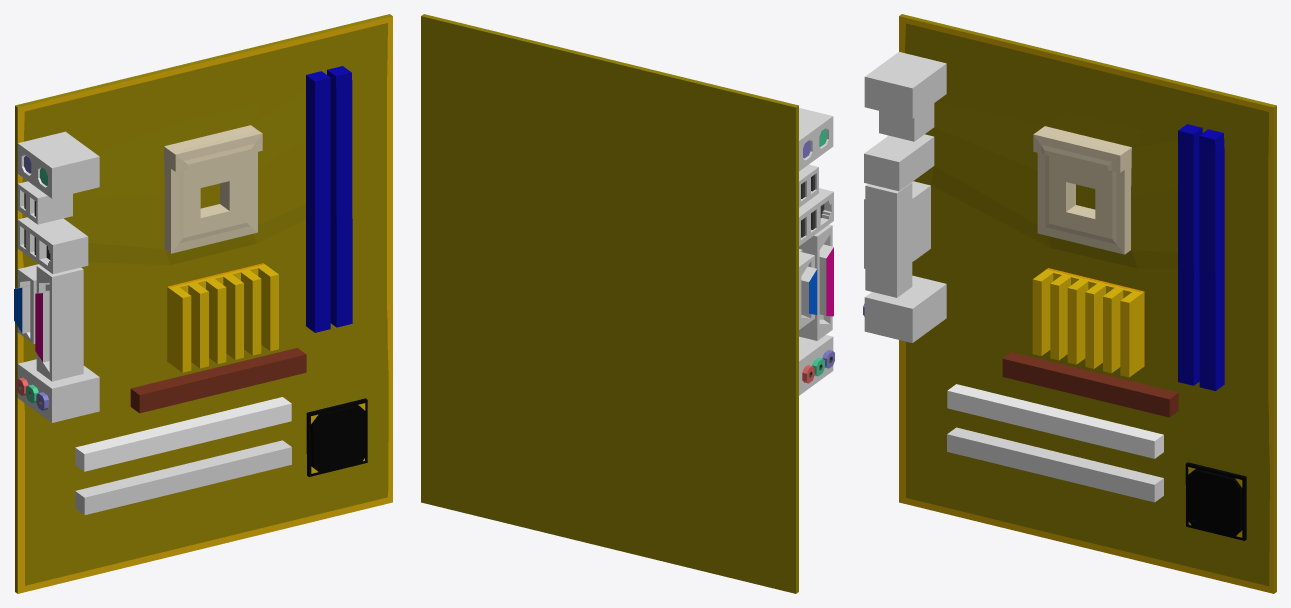
File: mobo_s478_1-intel.fbx
3 renders of one model, left to right at view 1: azimuth 30°, elevation 25°; view 2: azimuth 150°, elevation 25°; view 3: azimuth 330°, elevation 25°, orthographic.
Parts seen in each view (by area): view 1: Plane, Plane.001; view 2: Plane; view 3: Plane, Plane.001.
Boxes of the visible parts, left/top/right/bottom form: Plane: left=14, top=14, right=392, bottom=593; Plane.001: left=167, top=264, right=278, bottom=372; Plane: left=421, top=14, right=834, bottom=593; Plane: left=863, top=14, right=1276, bottom=593; Plane.001: left=1032, top=269, right=1143, bottom=377.
Size of the model in its own units: 160 by 195 by 27.57.
